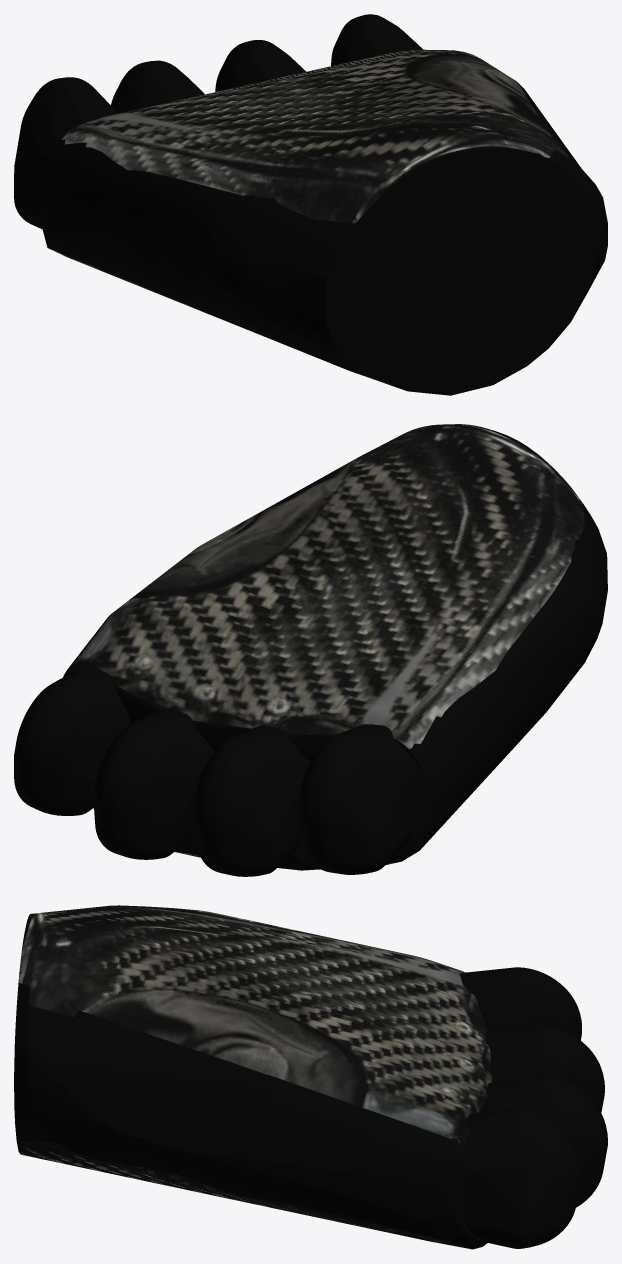
The model's file is FB_palm_ref_MIR.obj.
3 views of the same model, one above another, from view 1: azimuth 30°, elevation 25°; view 2: azimuth 150°, elevation 25°; view 3: azimuth 270°, elevation 25° (orthographic). The views are drawn at different scales.
Visible parts, largest first — view 1: FB_palm_ref_MIR; view 2: FB_palm_ref_MIR; view 3: FB_palm_ref_MIR.
Boxes of the visible parts, left/top/right/bottom form: FB_palm_ref_MIR: left=14, top=14, right=607, bottom=395; FB_palm_ref_MIR: left=14, top=424, right=607, bottom=876; FB_palm_ref_MIR: left=14, top=905, right=607, bottom=1249.
Bounding box in the file's own units: 0.0816 × 0.053 × 0.1106.
1 material, 1 textured.
